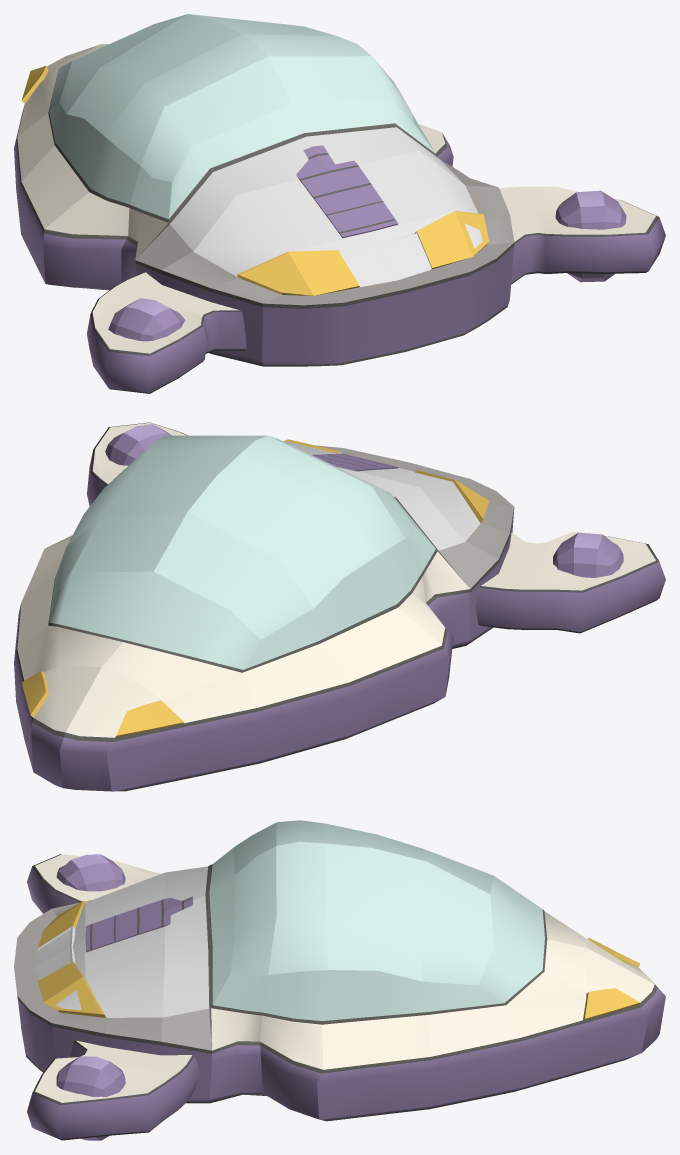
Rendered from Space_Car_2.fbx.
The picture shows the model from 3 angles, top to bottom: view 1: azimuth 30°, elevation 25°; view 2: azimuth 150°, elevation 25°; view 3: azimuth 270°, elevation 25°; orthographic projection. The views are drawn at different scales.
Parts seen in each view (by area): view 1: Space_Car_2; view 2: Space_Car_2; view 3: Space_Car_2.
Part boxes in pixels (x1,y1,x2,y2): Space_Car_2: [14, 14, 665, 393]; Space_Car_2: [14, 422, 665, 791]; Space_Car_2: [14, 820, 665, 1140].
Bounding box in the file's own units: 149 × 161 × 54.16.
